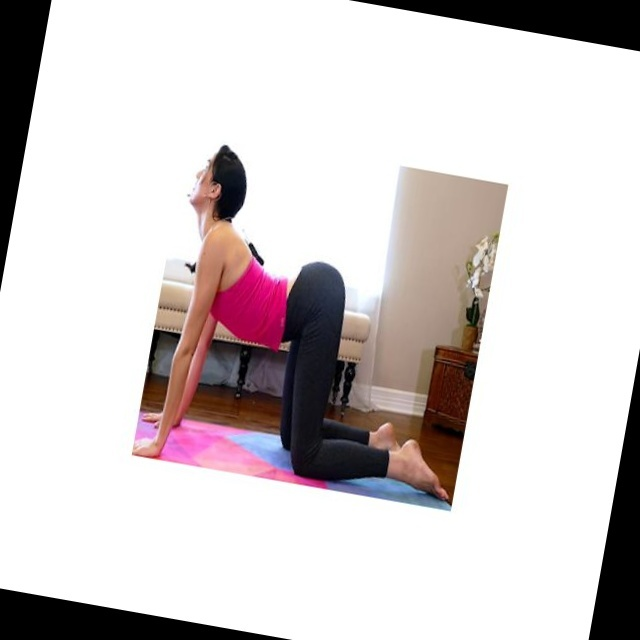Cow_Pose: (132, 145, 447, 501)
